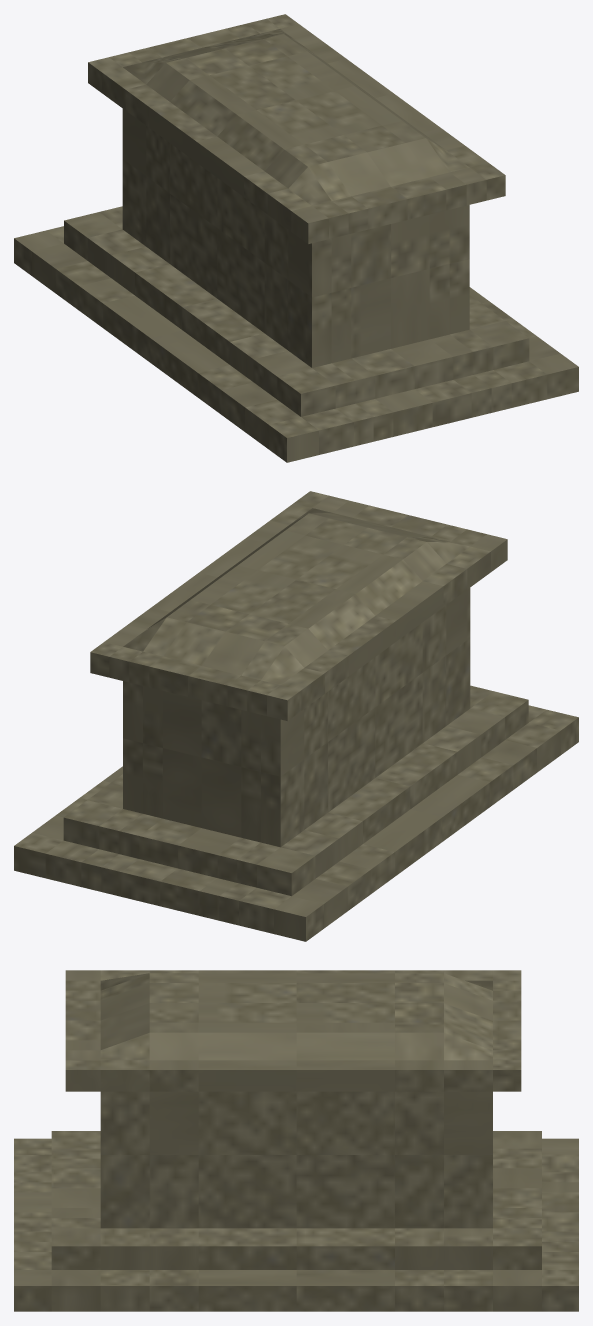
The model's file is Acosta_I_TombstoneWall6.fbx.
The picture shows the model from 3 angles, top to bottom: view 1: azimuth 30°, elevation 25°; view 2: azimuth 150°, elevation 25°; view 3: azimuth 270°, elevation 25°; orthographic projection. The views are drawn at different scales.
Visible parts, largest first — view 1: Cube; view 2: Cube; view 3: Cube.
Boxes of the visible parts, x1,y1,x2,y2 form: Cube: (14, 14, 578, 462); Cube: (14, 491, 578, 941); Cube: (14, 970, 578, 1311).
Bounding box in the file's own units: 744 × 552 × 1205.
Materials: 1 (1 with a texture image).
